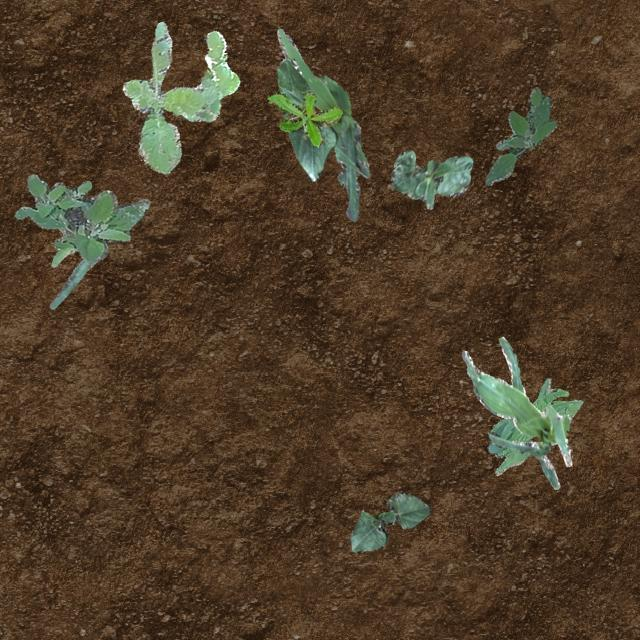crop: (276, 28, 368, 220), (460, 336, 570, 488), (487, 378, 582, 474), (276, 56, 336, 180), (389, 148, 472, 208), (348, 492, 429, 552), (48, 240, 108, 308)
weed: (122, 21, 238, 172), (13, 174, 148, 260), (484, 86, 556, 184), (266, 90, 342, 146)
